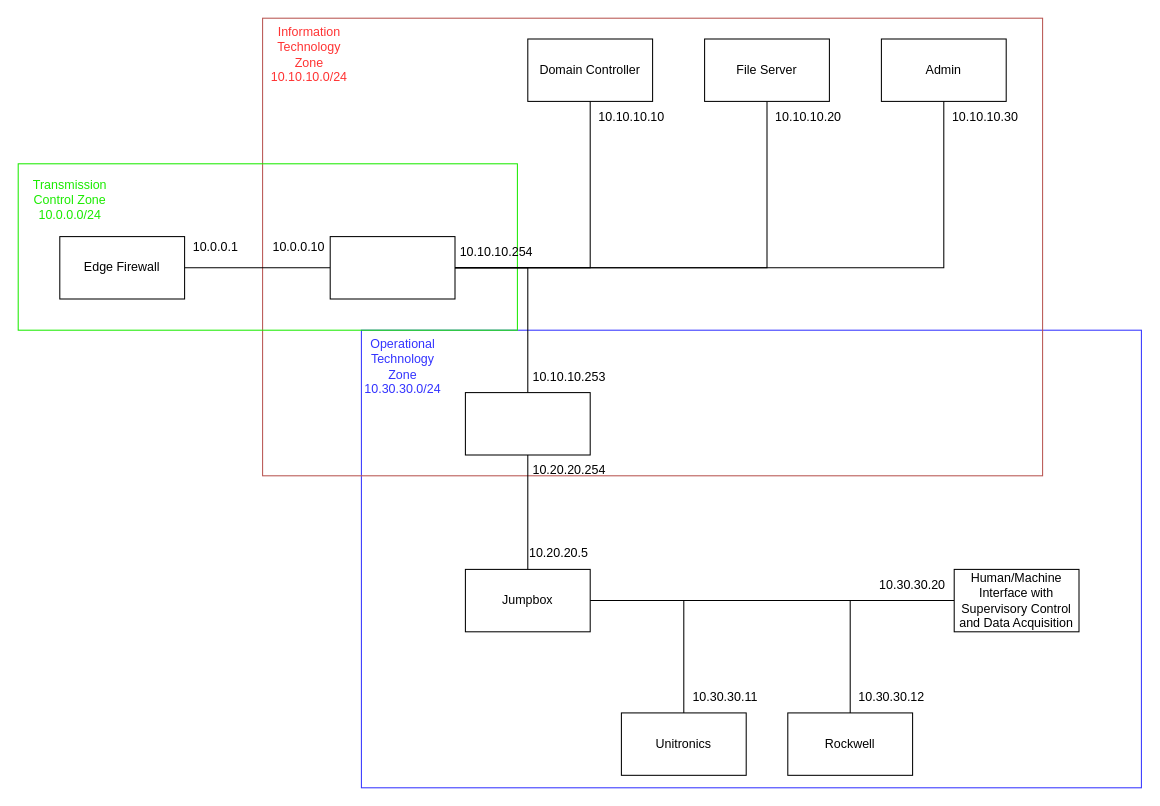
Image size: 1160x806. Some labels were removed from this diagram. Each missing label, with the centre of its shape:
"Information Technology Demilitarised Zone Edge" belongs at (392,267).
"Information Technology/ Operational Technology Bridge" belongs at (527,423).
